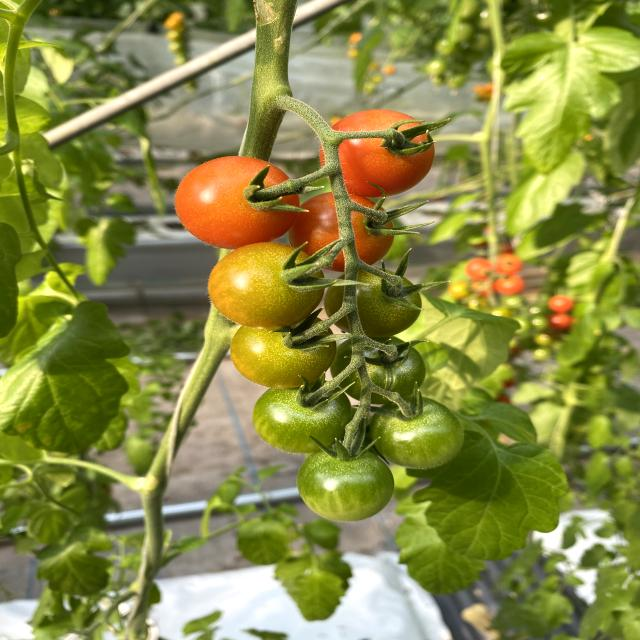ripe0: (297, 452, 396, 523), (251, 390, 355, 454), (376, 400, 462, 469)
ripe1: (206, 242, 324, 332), (228, 321, 341, 388)
ripe2: (174, 154, 302, 249), (330, 108, 432, 197), (298, 189, 396, 265)
